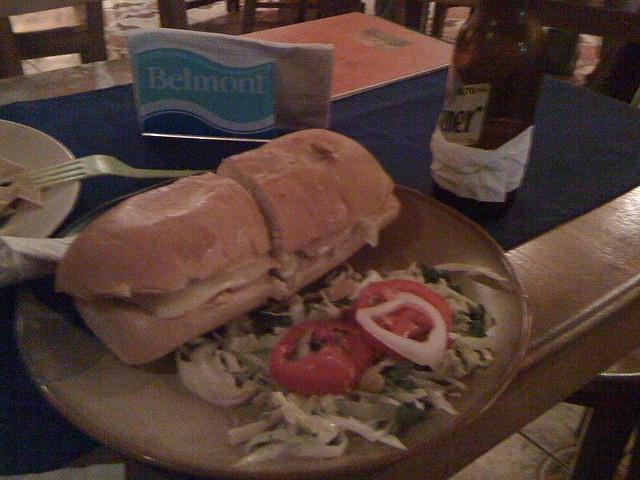lettuce: (271, 392, 340, 444), (313, 404, 376, 442), (290, 431, 348, 457), (425, 282, 478, 308), (336, 398, 398, 420), (420, 262, 460, 294), (225, 348, 274, 374), (379, 362, 418, 394), (248, 305, 294, 328), (319, 282, 354, 307), (214, 349, 248, 373), (439, 350, 469, 376), (467, 303, 488, 339), (382, 388, 428, 402), (304, 304, 336, 322), (284, 434, 326, 446), (305, 309, 317, 321)
onion: (355, 291, 447, 366), (312, 404, 376, 442)
tomato: (351, 279, 454, 363), (270, 321, 378, 396)
